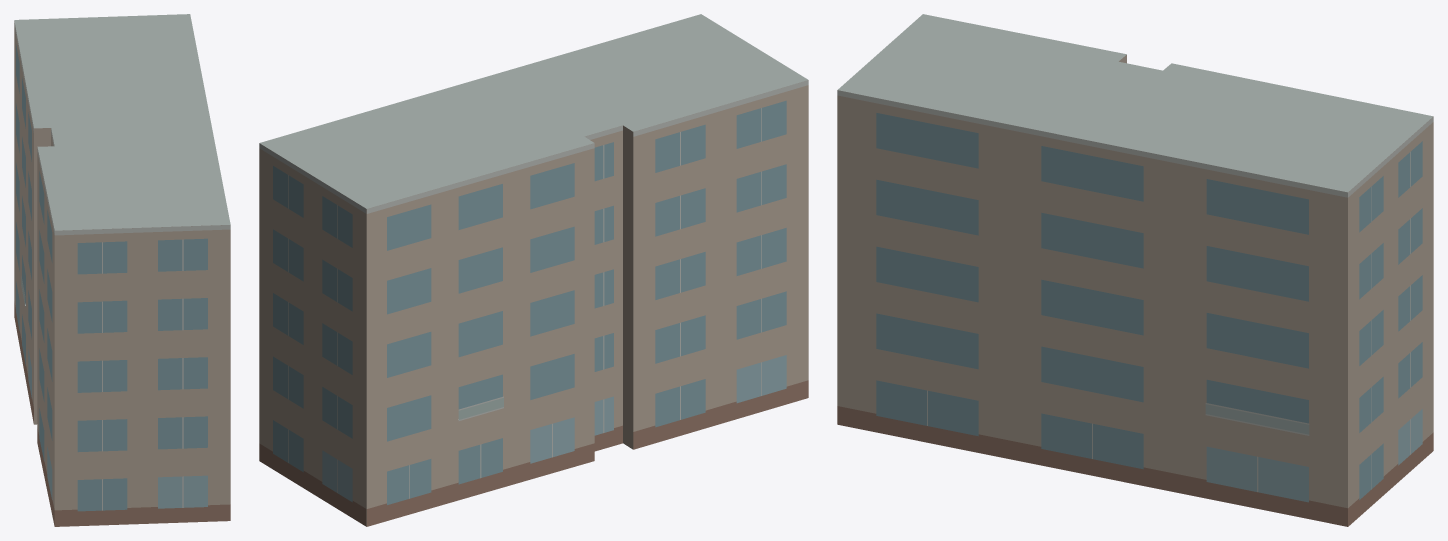
The model's file is survey-upis-32552704.glb.
3 views of the same model, side by side, from view 1: azimuth 30°, elevation 25°; view 2: azimuth 150°, elevation 25°; view 3: azimuth 270°, elevation 25° (orthographic). The views are drawn at different scales.
Parts seen in each view (by area): view 1: survey-upis-32552704.tmp; view 2: survey-upis-32552704.tmp; view 3: survey-upis-32552704.tmp.
Boxes of the visible parts, x1,y1,x2,y2 form: survey-upis-32552704.tmp: (14,14,230,526); survey-upis-32552704.tmp: (259,14,808,526); survey-upis-32552704.tmp: (837,14,1433,526).
Size of the model in its own units: 17.45 by 15.25 by 24.65.
